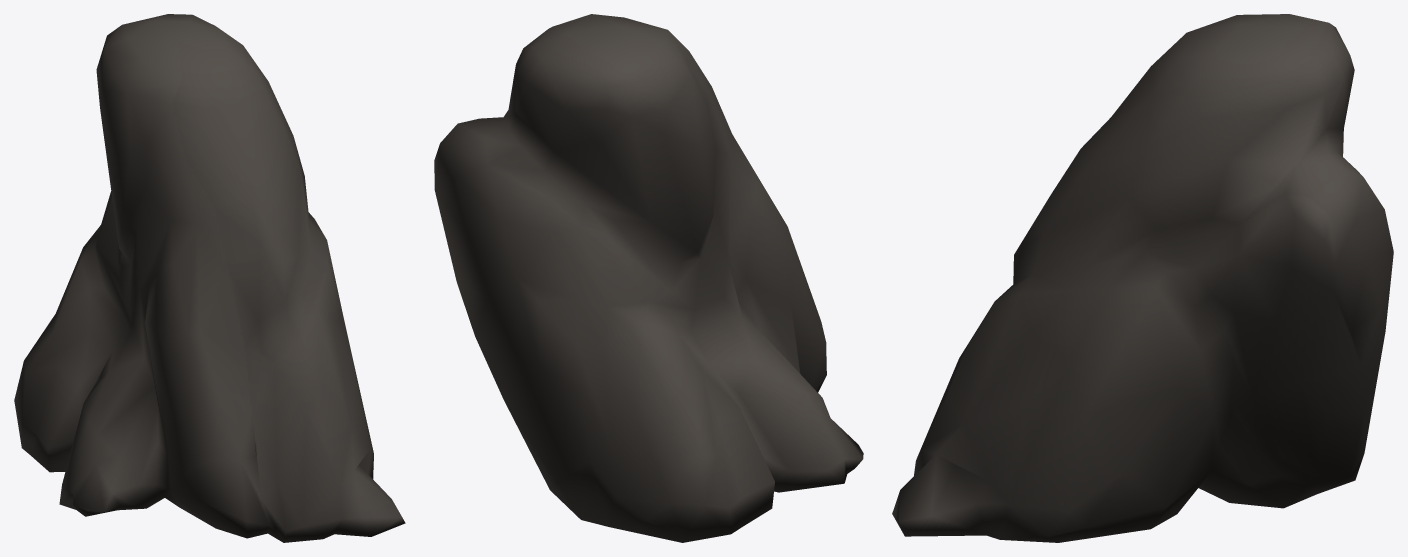
The model's file is rock_2.glb.
The picture shows the model from 3 angles, left to right: view 1: azimuth 30°, elevation 25°; view 2: azimuth 150°, elevation 25°; view 3: azimuth 270°, elevation 25°; orthographic projection. The views are drawn at different scales.
Parts seen in each view (by area): view 1: Brock; view 2: Brock; view 3: Brock.
Part boxes in pixels (x1,y1,x2,y2): Brock: (14, 14, 405, 542); Brock: (434, 14, 863, 542); Brock: (892, 14, 1393, 542).
Size of what is drawn, in the model's own units: 8.68 by 11.46 by 11.22.
1 material, 1 textured.
